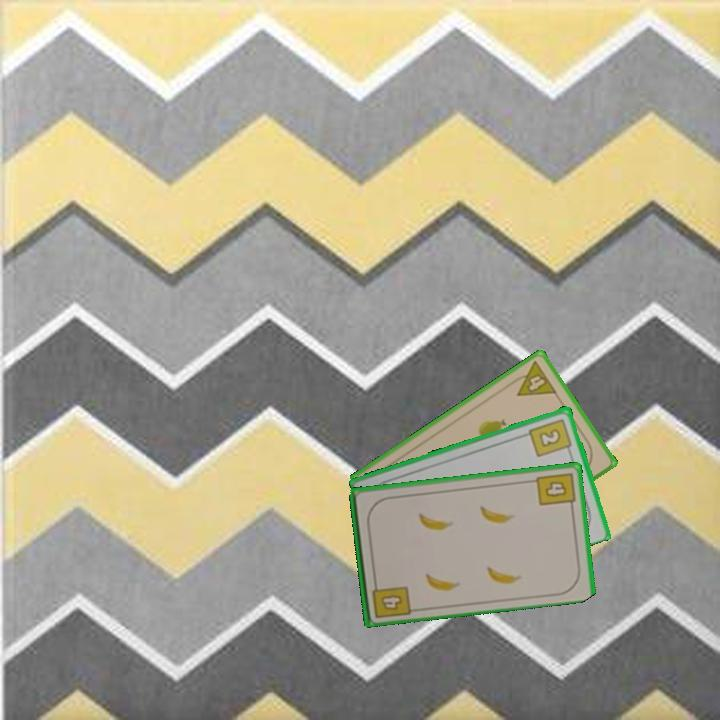2b: (526, 415, 575, 460)
4b: (368, 576, 413, 621), (533, 469, 578, 512)
4p: (506, 357, 560, 399)
